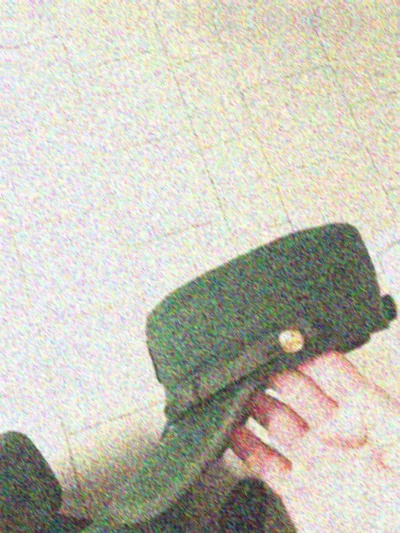Hat: (68, 177, 397, 533)
